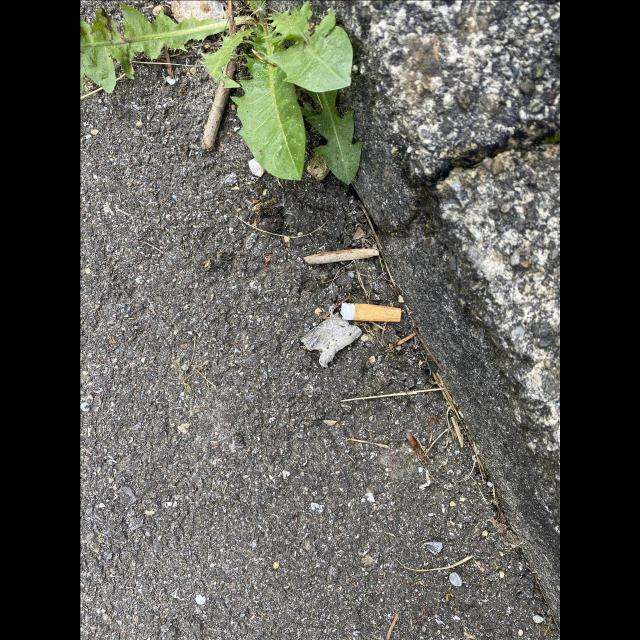cigarette: (340, 302, 402, 322)
